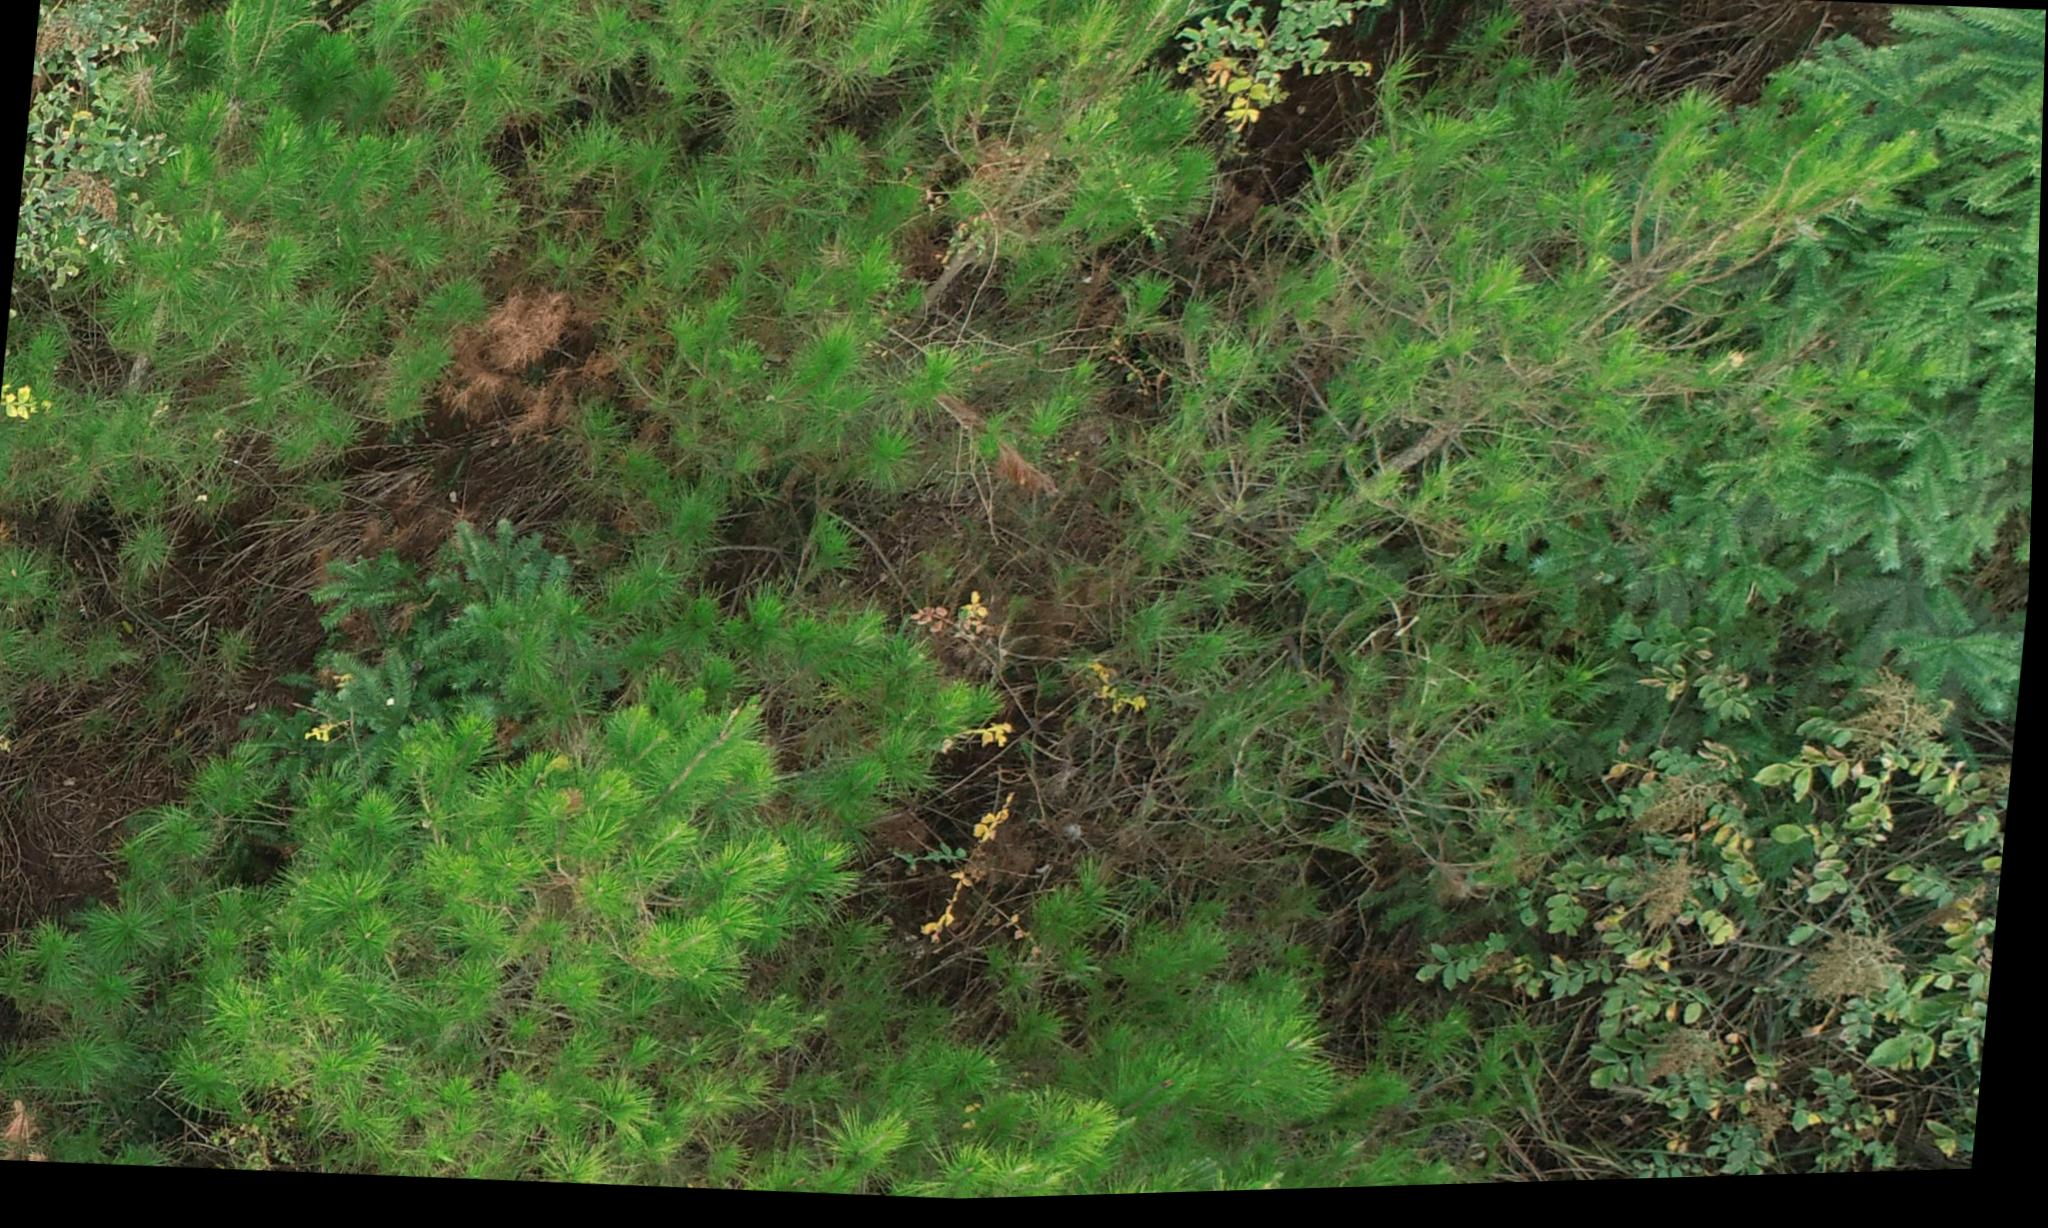heavy: (417, 294, 642, 462)
